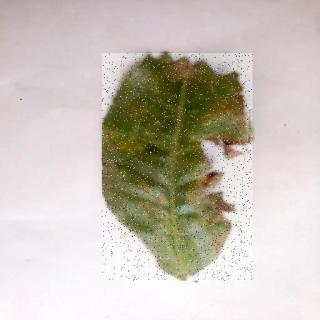Algal Leaf: (103, 54, 253, 282)
